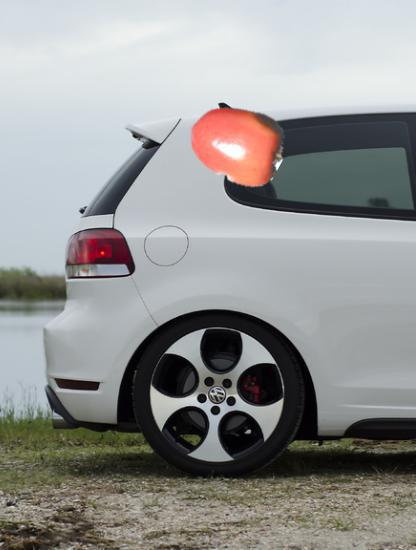Kaki: (190, 94, 286, 190)
